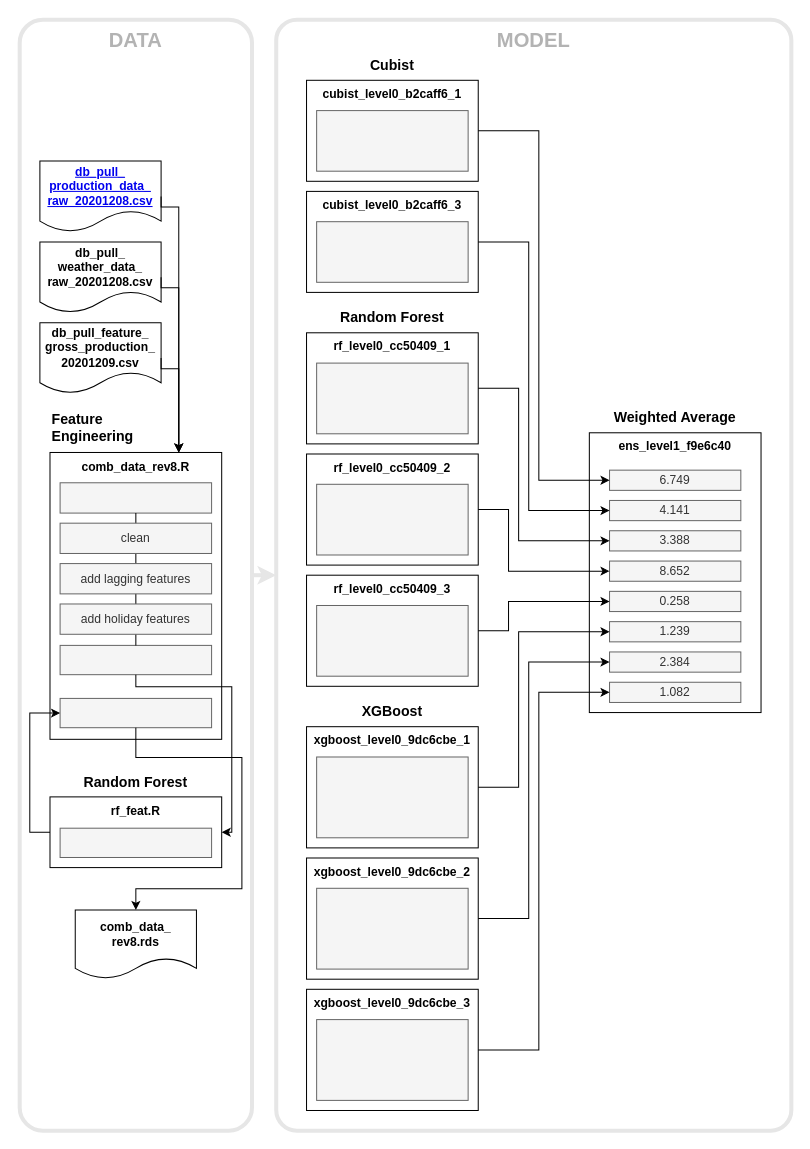
Some shapes in this 810 by 1149 pixel diagram are drawn without their labels. The centre of each missing label's shape, as x and y in pixels:
add time-based features: the point at 135,659
commitees: 79 neighbors: 6 max_rules: 280: the point at 392,140
commitees: 86 neighbors: 8 max_rules: 169: the point at 392,251
eta: 0.096 colsample_bytree: 88 subsample: 0.677 max_depth: 3 early_stop: 10: the point at 392,797
eta: 0.100 colsample_bytree: 115 subsample: 0.602 max_depth: 3 early_stop: 10: the point at 392,1059
eta: 0.104 colsample_bytree: 180 subsample: 0.668 max_depth: 4 early_stop: 10: the point at 392,928
filter features: the point at 135,712
join: the point at 135,497
mtry: 130 trees: 1000 min_n: 5 sample_fraction: 0.038: the point at 392,398
mtry: 162 trees: 1000 min_n: 3 sample_fraction: 0.032: the point at 392,519
mtry: 43 trees: 1000 min_n: 38 sample_fraction: 1.0: the point at 392,640
select top 50% features: the point at 135,842
